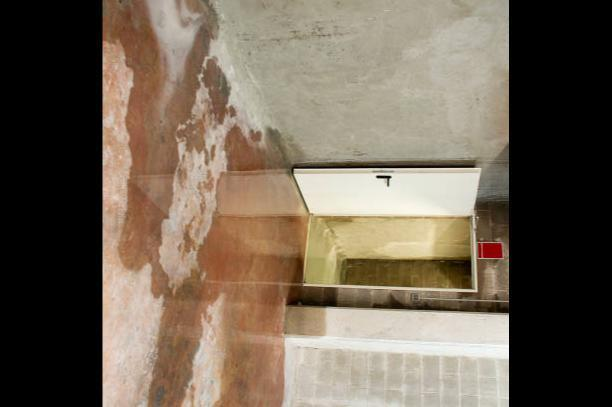water accumulation: (102, 0, 313, 407)
